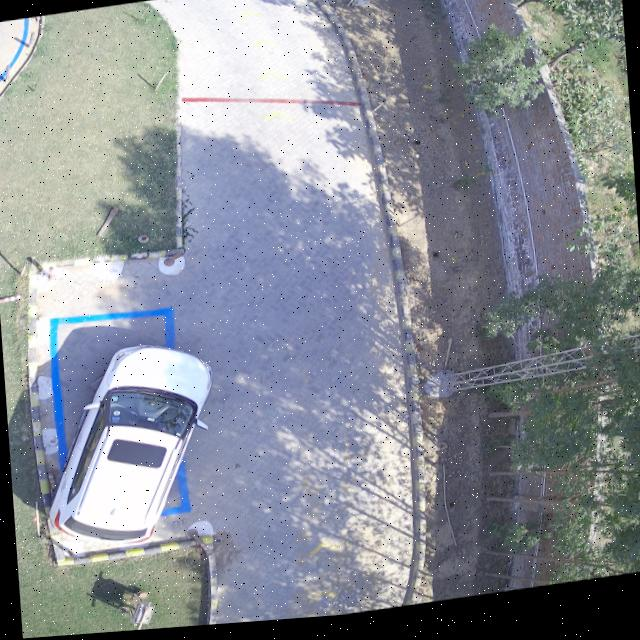car: (50, 347, 210, 546)
